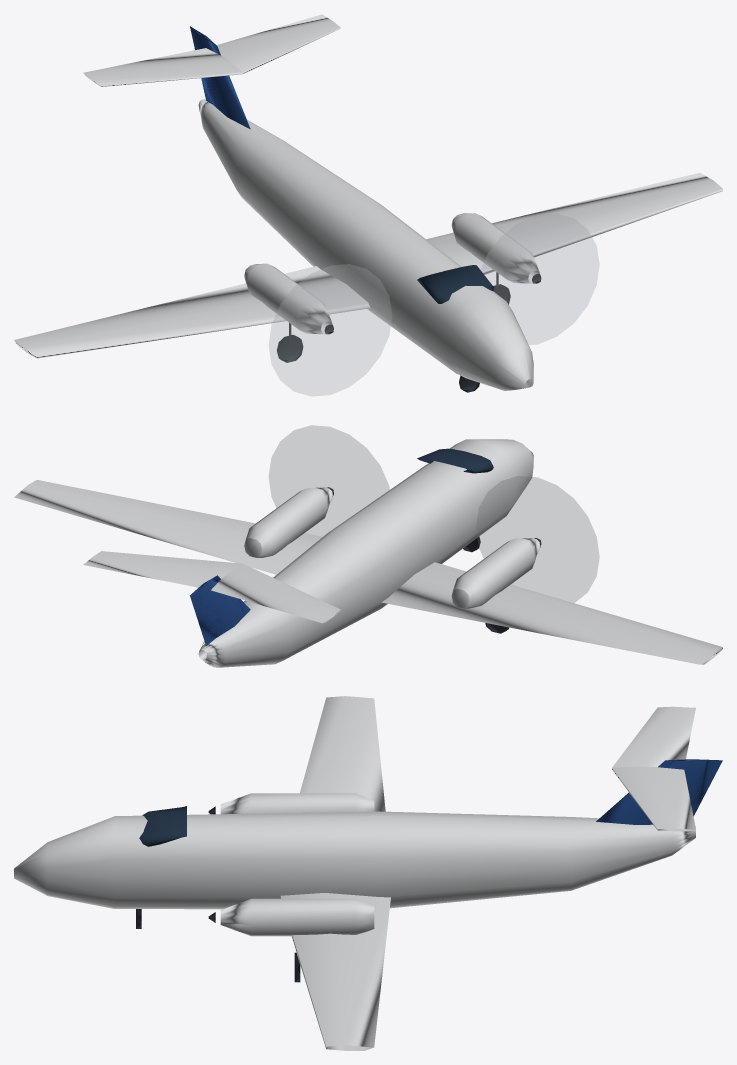
The model's file is kingair.glb.
3 renders of one model, top to bottom at view 1: azimuth 30°, elevation 25°; view 2: azimuth 150°, elevation 25°; view 3: azimuth 270°, elevation 25°, orthographic. The views are drawn at different scales.
Visible parts, largest first — view 1: kingair; view 2: kingair; view 3: kingair.
Part boxes in pixels (box(x1,y1,x2,y2)): kingair: box(14, 14, 722, 396); kingair: box(14, 425, 722, 667); kingair: box(14, 696, 722, 1050).
Size of the model in its own units: 17.2 by 3.95 by 14.76.
